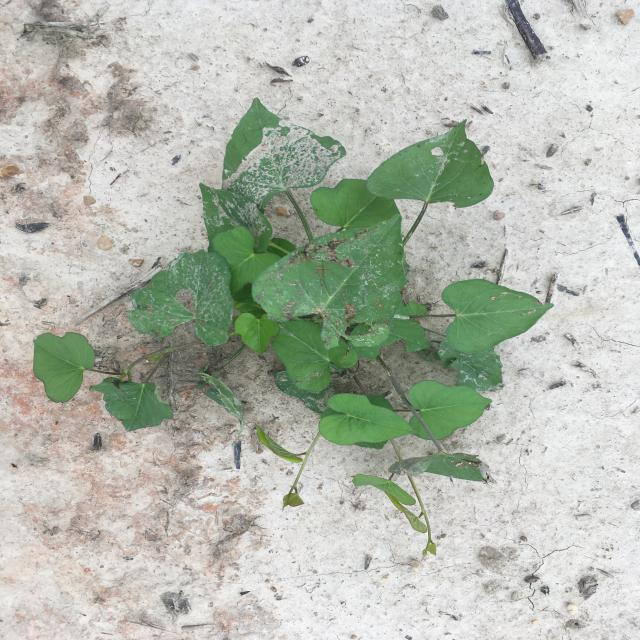MorningGlory: (33, 97, 555, 556)
